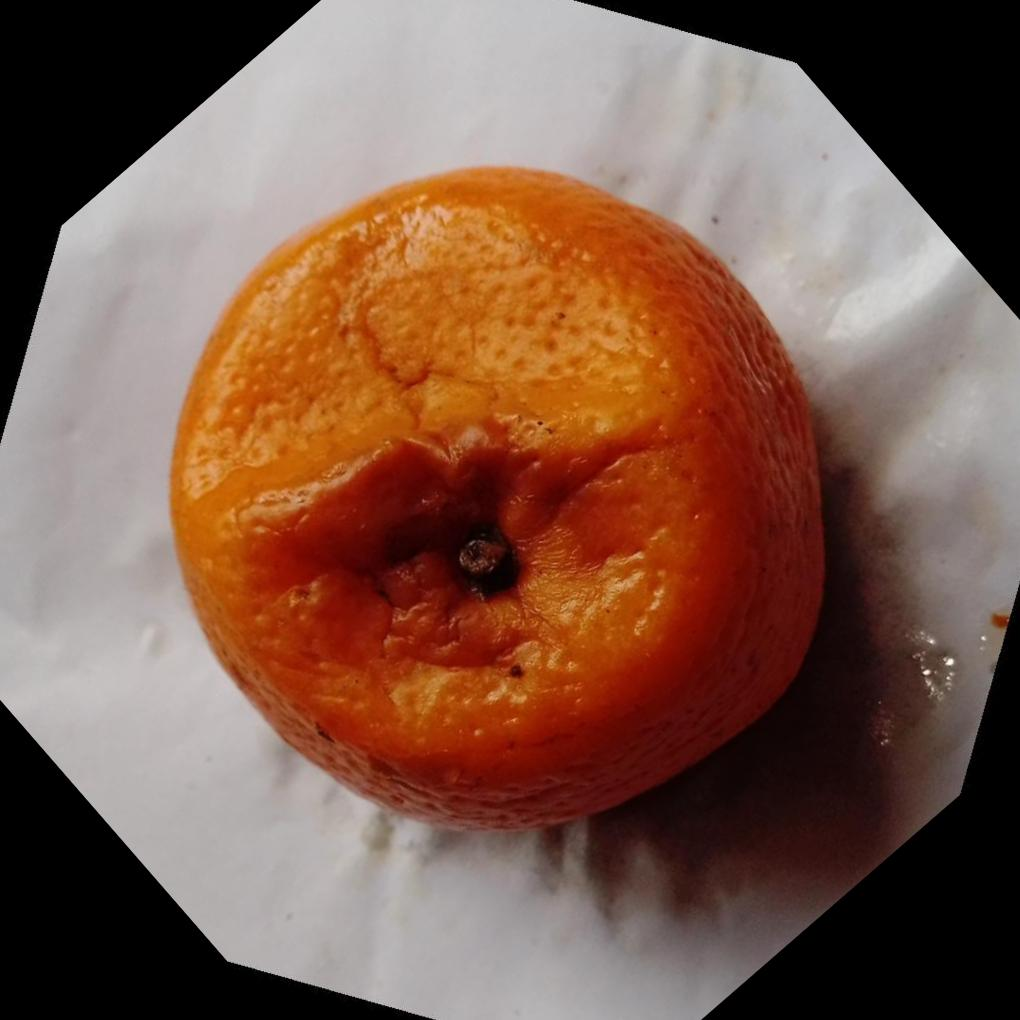FreshOrange: (163, 158, 829, 832)
